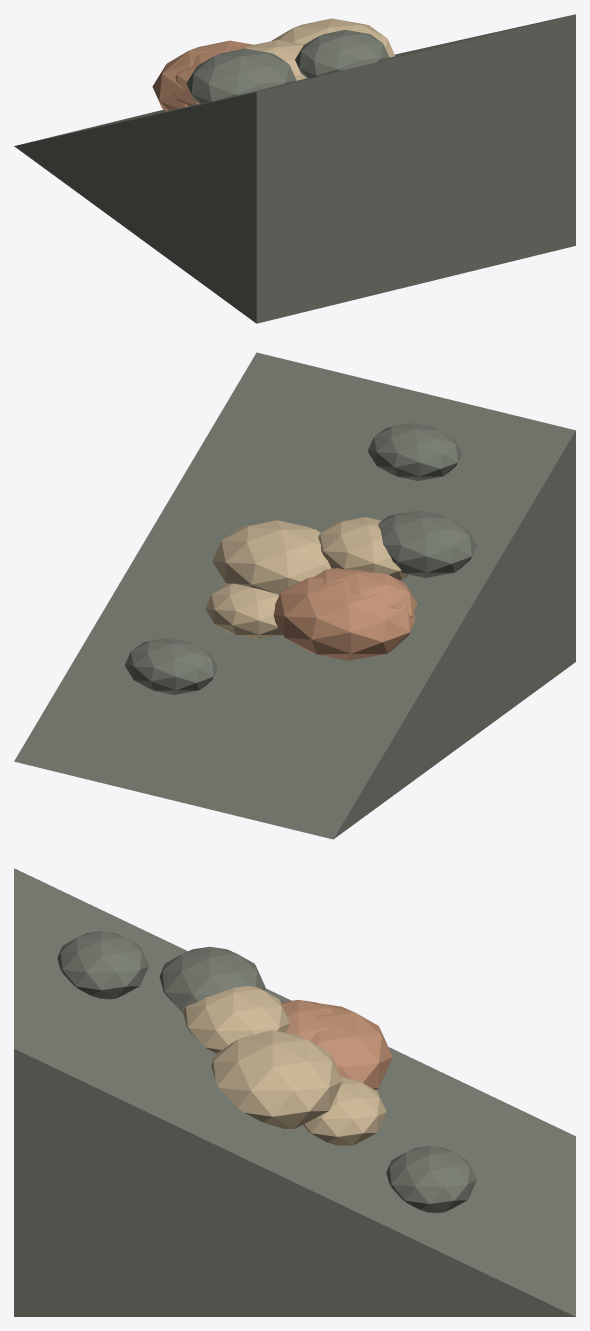
Rendered from debris_ramp_02.glb.
The picture shows the model from 3 angles, top to bottom: view 1: azimuth 30°, elevation 25°; view 2: azimuth 150°, elevation 25°; view 3: azimuth 270°, elevation 25°; orthographic projection. The views are drawn at different scales.
Visible parts, largest first — view 1: core, lump3, lump0, lump5, lump7, lump4, lump2; view 2: core, lump5, lump7, lump3, lump0, lump6, lump4, lump1, lump2; view 3: core, lump7, lump0, lump4, lump6, lump3, lump5, lump1, lump2.
Part boxes in pixels (x1,y1,x2,y2): core: (14,14,575,323); lump3: (186,48,296,103); lump0: (295,29,389,78); lump5: (152,40,253,111); lump7: (272,18,394,57); lump4: (245,40,306,80); lump2: (174,46,243,105); core: (14,352,575,839); lump5: (273,576,414,660); lump7: (212,520,331,594); lump3: (378,510,476,577); lump0: (367,423,461,480); lump6: (124,638,217,694); lump4: (318,517,408,580); lump1: (205,583,282,639); lump2: (314,568,416,617); core: (14,868,575,1316); lump7: (211,1030,342,1129); lump0: (57,931,148,999); lump4: (183,986,289,1053); lump6: (386,1146,476,1213); lump3: (159,946,265,1011); lump5: (309,1003,392,1089); lump1: (303,1076,386,1146); lump2: (281,999,333,1040).
Size of the model in its own units: 1.14 by 0.79 by 1.5.
